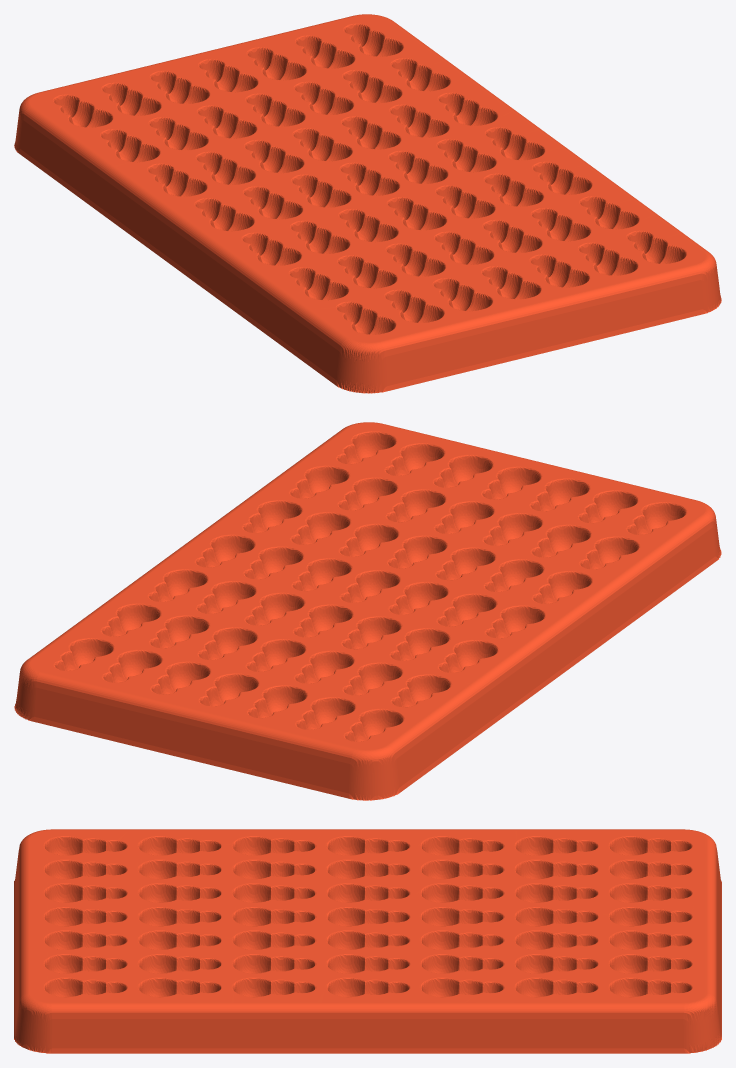
Rendered from mold.glb.
3 views of the same model, one above another, from view 1: azimuth 30°, elevation 25°; view 2: azimuth 150°, elevation 25°; view 3: azimuth 270°, elevation 25° (orthographic).
Visible parts, largest first — view 1: geometry_0; view 2: geometry_0; view 3: geometry_0.
Part boxes in pixels (x1,y1,x2,y2): geometry_0: (14, 14, 721, 393); geometry_0: (14, 422, 721, 800); geometry_0: (14, 829, 721, 1053).
Bounding box in the file's own units: 0.1029 × 0.0114 × 0.1657.
